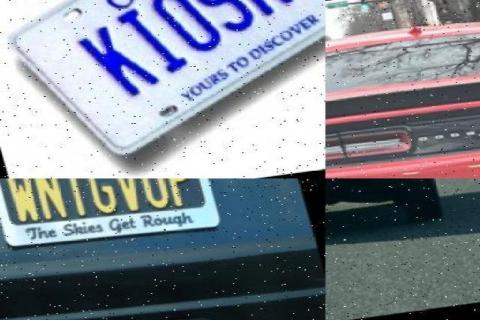LicensePlate: (5, 0, 326, 113), (0, 178, 219, 260)
